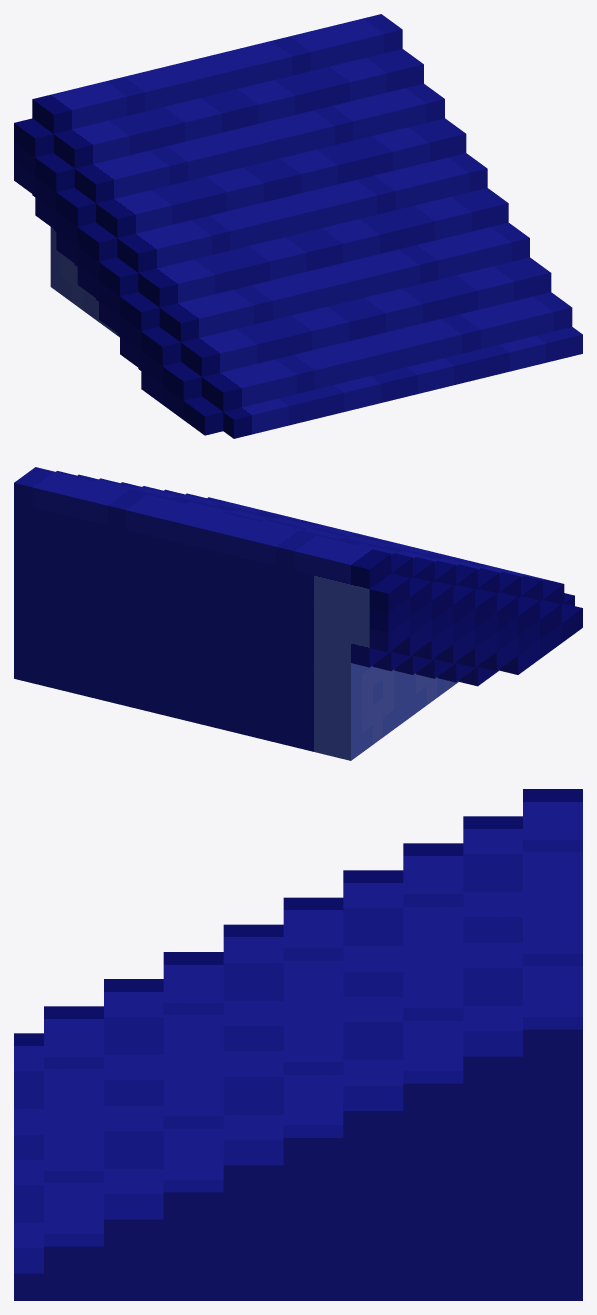
The model's file is half_top_ramp_bot_left.glb.
The picture shows the model from 3 angles, top to bottom: view 1: azimuth 30°, elevation 25°; view 2: azimuth 150°, elevation 25°; view 3: azimuth 270°, elevation 25°; orthographic projection. The views are drawn at different scales.
Visible parts, largest first — view 1: half_top_ramp_bot_left; view 2: half_top_ramp_bot_left; view 3: half_top_ramp_bot_left.
Part boxes in pixels (left/top/right/bottom): half_top_ramp_bot_left: left=14, top=14, right=582, bottom=438; half_top_ramp_bot_left: left=14, top=467, right=582, bottom=760; half_top_ramp_bot_left: left=14, top=789, right=582, bottom=1300.
Size of the model in its own units: 2 by 1 by 1.9.
Materials: 1 (1 with a texture image).
